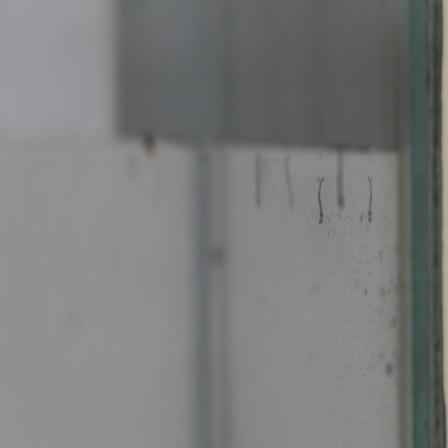Jentik-Nyamuk: (313, 173, 328, 228), (363, 173, 376, 224)
